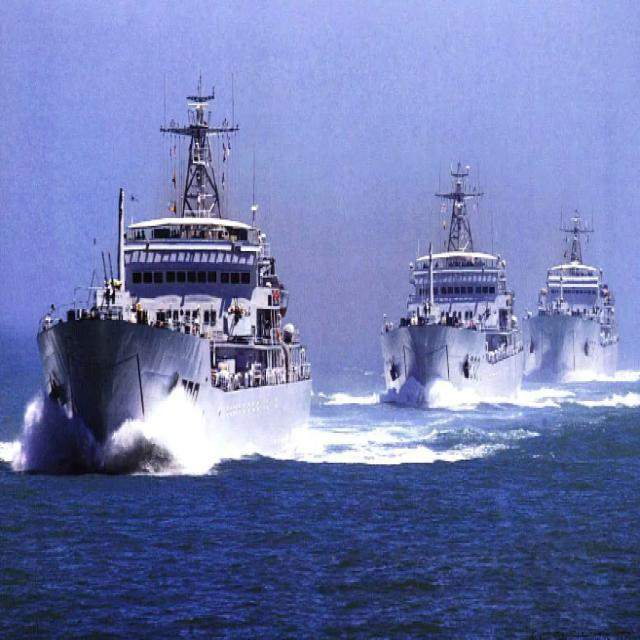navalvessels: (31, 77, 319, 465), (366, 160, 521, 411), (518, 179, 624, 387)
